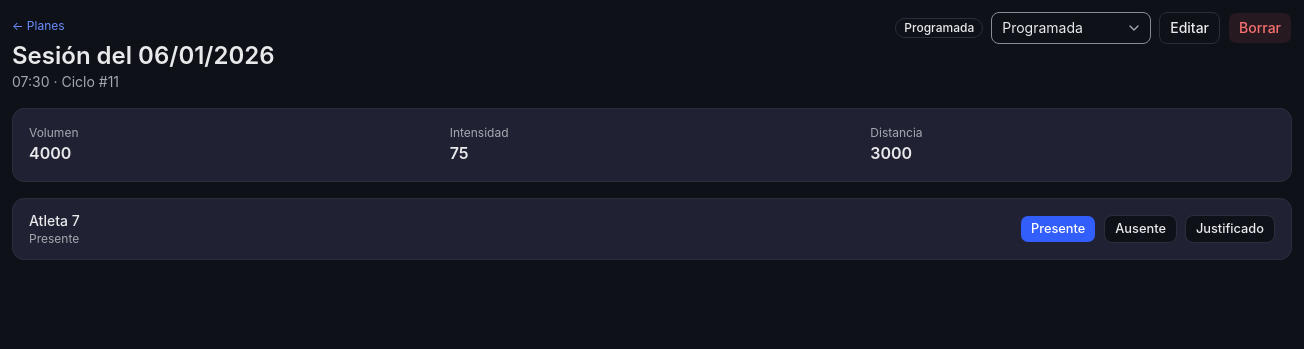
Test case: SessionDetailPage — pase de lista (T6) › 400 al marcar (sesión cancelada en el back): mensaje mapeado, nunca crudo
The width and height of the screenshot is (1304, 349).
Click the button with test id "attendance-PRESENTE-7" at point(1058, 229), box [1020,215,1096,243]
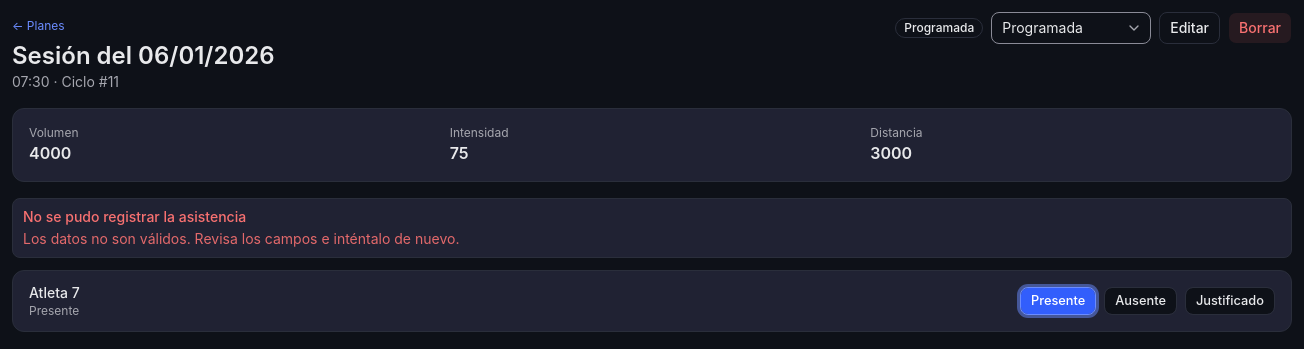
Expected: the message with test id "attendance-error" does not show "raw backend detail", [12,198,1292,258]
Now the message with test id "attendance-error" is shown, box [12,198,1292,258]
